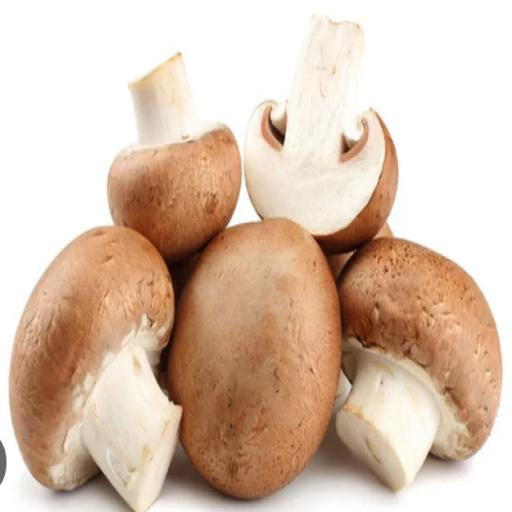Button Mushroom: (1, 219, 183, 512), (176, 212, 347, 510), (336, 226, 510, 505), (244, 13, 406, 255), (104, 47, 243, 261)
